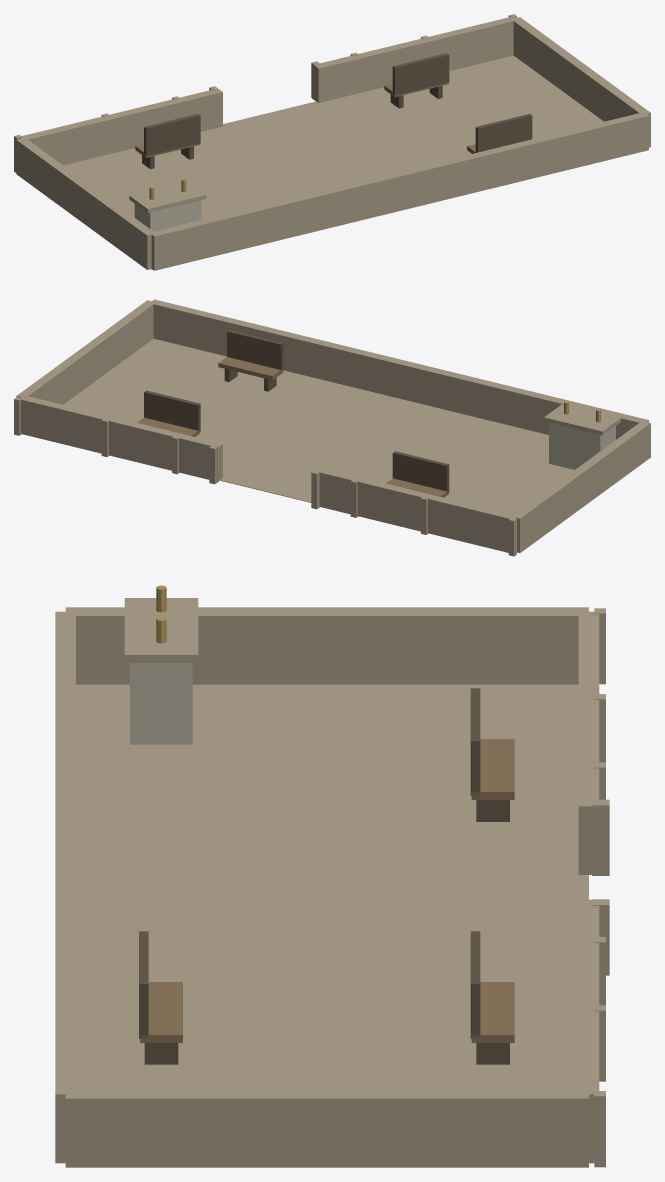
Rendered from TownEx_Chapel_Structure.fbx.
3 renders of one model, top to bottom at view 1: azimuth 30°, elevation 25°; view 2: azimuth 150°, elevation 25°; view 3: azimuth 270°, elevation 25°, orthographic. The views are drawn at different scales.
Visible parts, largest first — view 1: TownEx_Chapel_Structure; view 2: TownEx_Chapel_Structure; view 3: TownEx_Chapel_Structure.
Part boxes in pixels (x1,y1,x2,y2): TownEx_Chapel_Structure: [14, 14, 650, 270]; TownEx_Chapel_Structure: [14, 299, 650, 556]; TownEx_Chapel_Structure: [55, 585, 609, 1167].
Size of the model in its own units: 15.78 by 1.76 by 7.52.
